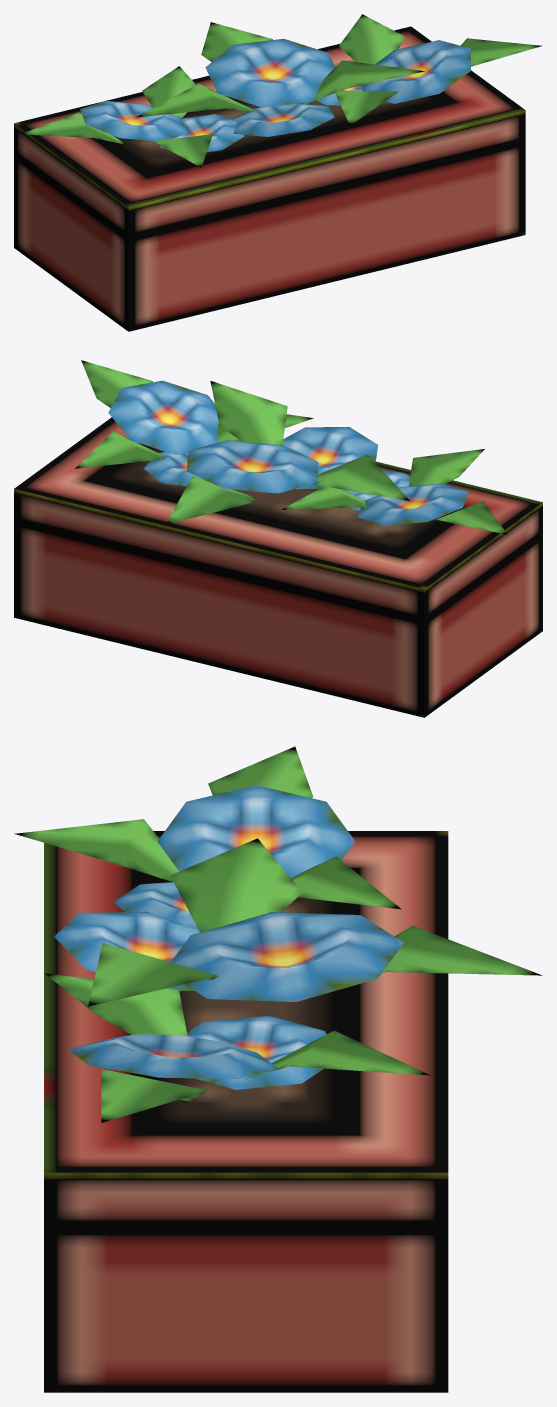
File: deco_pot_flowersBlue.FBX
3 views of the same model, one above another, from view 1: azimuth 30°, elevation 25°; view 2: azimuth 150°, elevation 25°; view 3: azimuth 270°, elevation 25° (orthographic). The views are drawn at different scales.
Parts seen in each view (by area): view 1: deco_pot_flowersBlue; view 2: deco_pot_flowersBlue; view 3: deco_pot_flowersBlue.
Boxes of the visible parts, x1,y1,x2,y2 form: deco_pot_flowersBlue: (14,14,542,331); deco_pot_flowersBlue: (14,360,542,717); deco_pot_flowersBlue: (14,746,542,1392).
Size of the model in its own units: 1.85 by 0.6651 by 1.03.
1 material, 1 textured.
